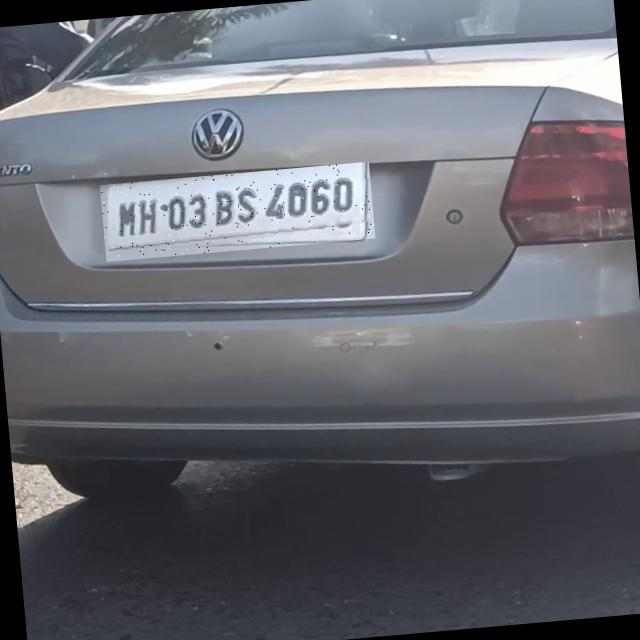Plate: (100, 163, 376, 263)
